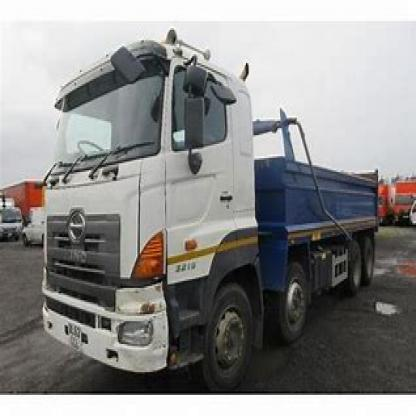dump_truck: (39, 40, 382, 390)
